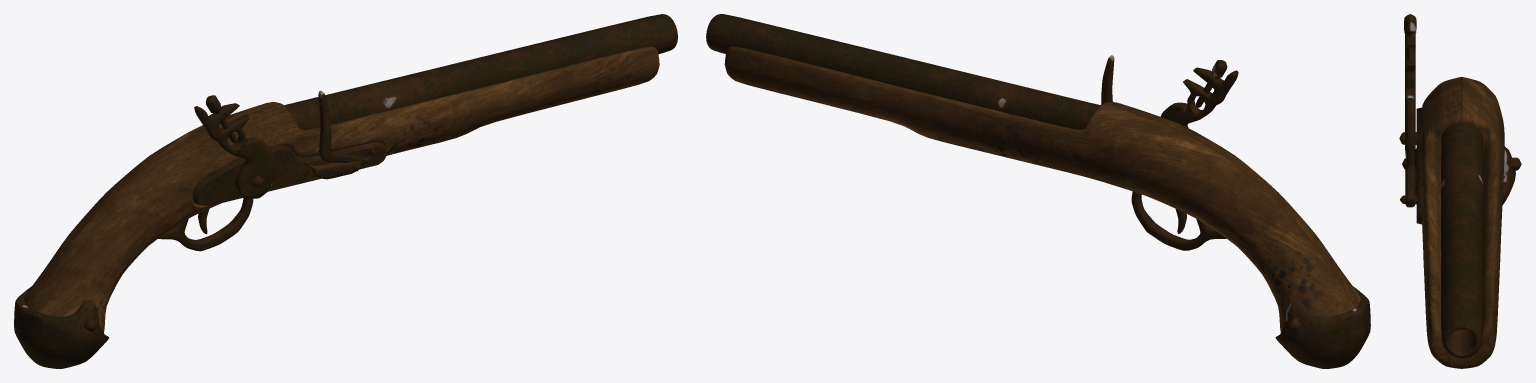
File: flintlock_pistol_free_download.glb
3 renders of one model, left to right at view 1: azimuth 30°, elevation 25°; view 2: azimuth 150°, elevation 25°; view 3: azimuth 270°, elevation 25°, orthographic. The views are drawn at different scales.
Visible parts, largest first — view 1: Object_3, Object_5, Object_2, Object_6; view 2: Object_3, Object_5, Object_2; view 3: Object_3, Object_5, Object_6, Object_2.
Boxes of the visible parts, box(x1,y1,x2,y2) form: Object_3: box(24, 46, 659, 332); Object_5: box(84, 14, 677, 331); Object_2: box(14, 197, 253, 368); Object_6: box(192, 142, 387, 206); Object_3: box(724, 46, 1360, 332); Object_5: box(706, 14, 1300, 331); Object_2: box(1131, 191, 1370, 368); Object_3: box(1406, 77, 1504, 368); Object_5: box(1399, 14, 1521, 358); Object_6: box(1416, 107, 1421, 224); Object_2: box(1414, 146, 1515, 205).
Bounding box in the file's own units: 9.67 × 3.63 × 1.48.
3 materials, 3 textured.
